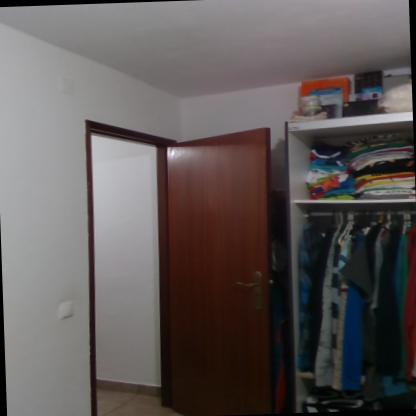open: (64, 103, 298, 415)
